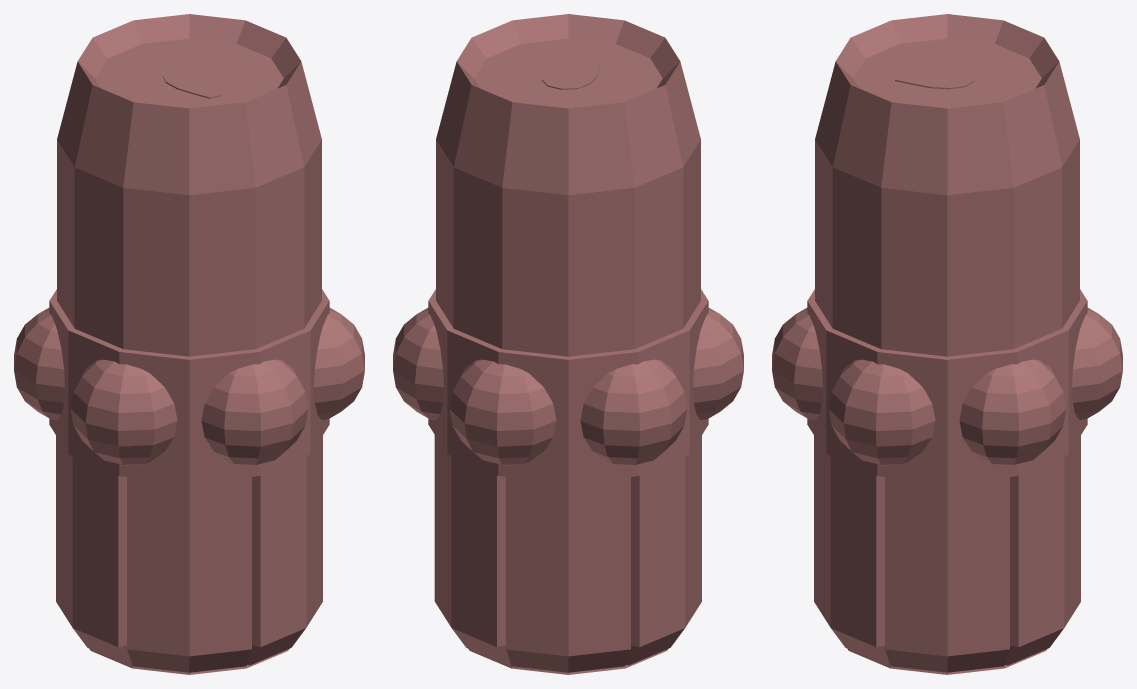
The model's file is grenade_opti_V1.fbx.
3 views of the same model, side by side, from view 1: azimuth 30°, elevation 25°; view 2: azimuth 150°, elevation 25°; view 3: azimuth 270°, elevation 25° (orthographic).
Parts seen in each view (by area): view 1: grenade; view 2: grenade; view 3: grenade.
Boxes of the visible parts, x1,y1,x2,y2 form: grenade: [14, 14, 364, 674]; grenade: [393, 14, 743, 674]; grenade: [772, 14, 1122, 674].
Size of the model in its own units: 2.59 by 5.09 by 2.81.
